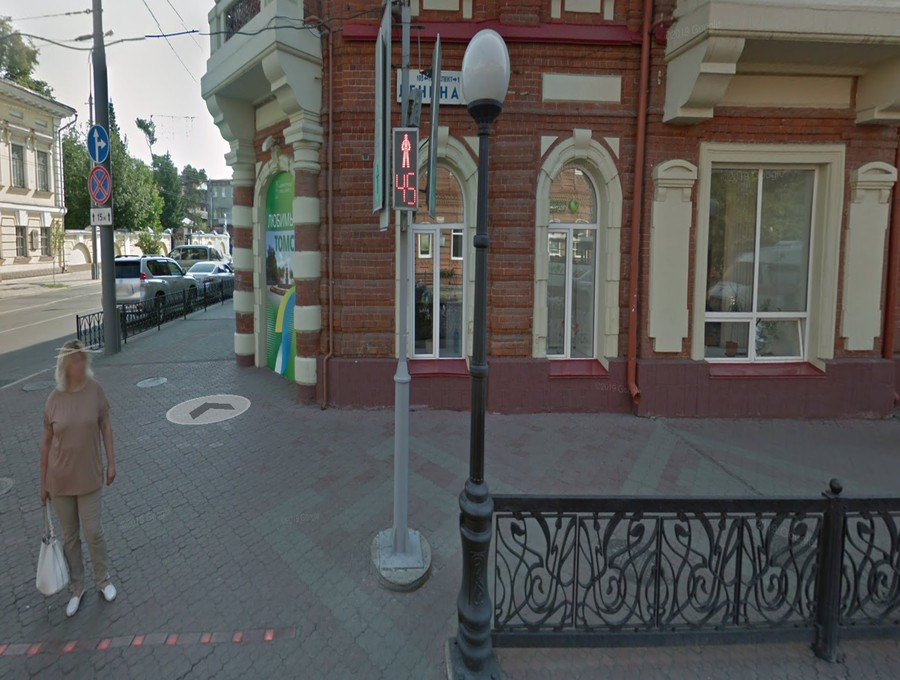Traffic Light-red: (390, 128, 420, 210)
